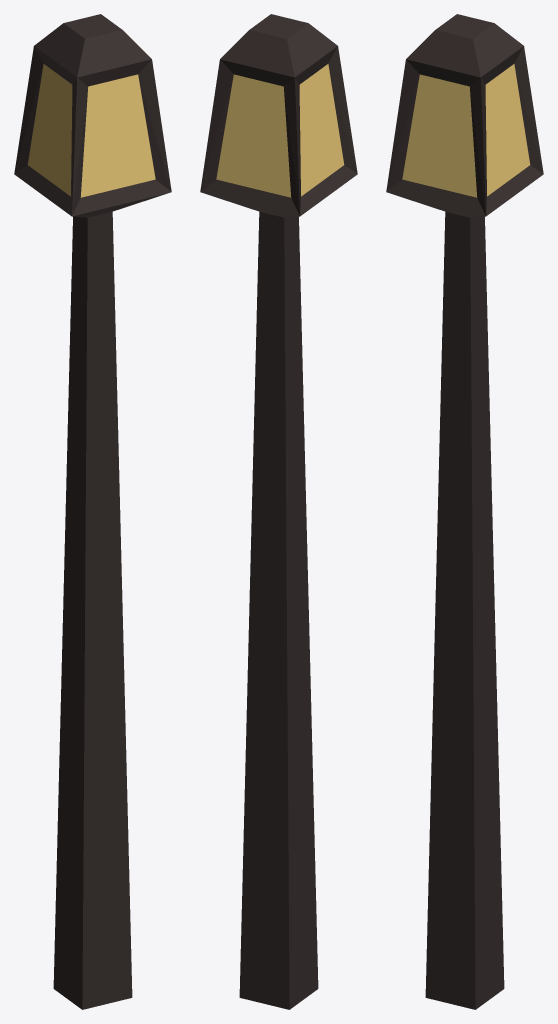
File: lamppost.dae
3 views of the same model, side by side, from view 1: azimuth 30°, elevation 25°; view 2: azimuth 150°, elevation 25°; view 3: azimuth 330°, elevation 25° (orthographic).
Parts seen in each view (by area): view 1: mesh; view 2: mesh; view 3: mesh.
Boxes of the visible parts, bbox=[...] form: mesh: bbox=[14, 14, 171, 1009]; mesh: bbox=[200, 14, 357, 1009]; mesh: bbox=[386, 14, 543, 1009].
Bounding box in the file's own units: 0.8 × 0.8 × 7.4.
